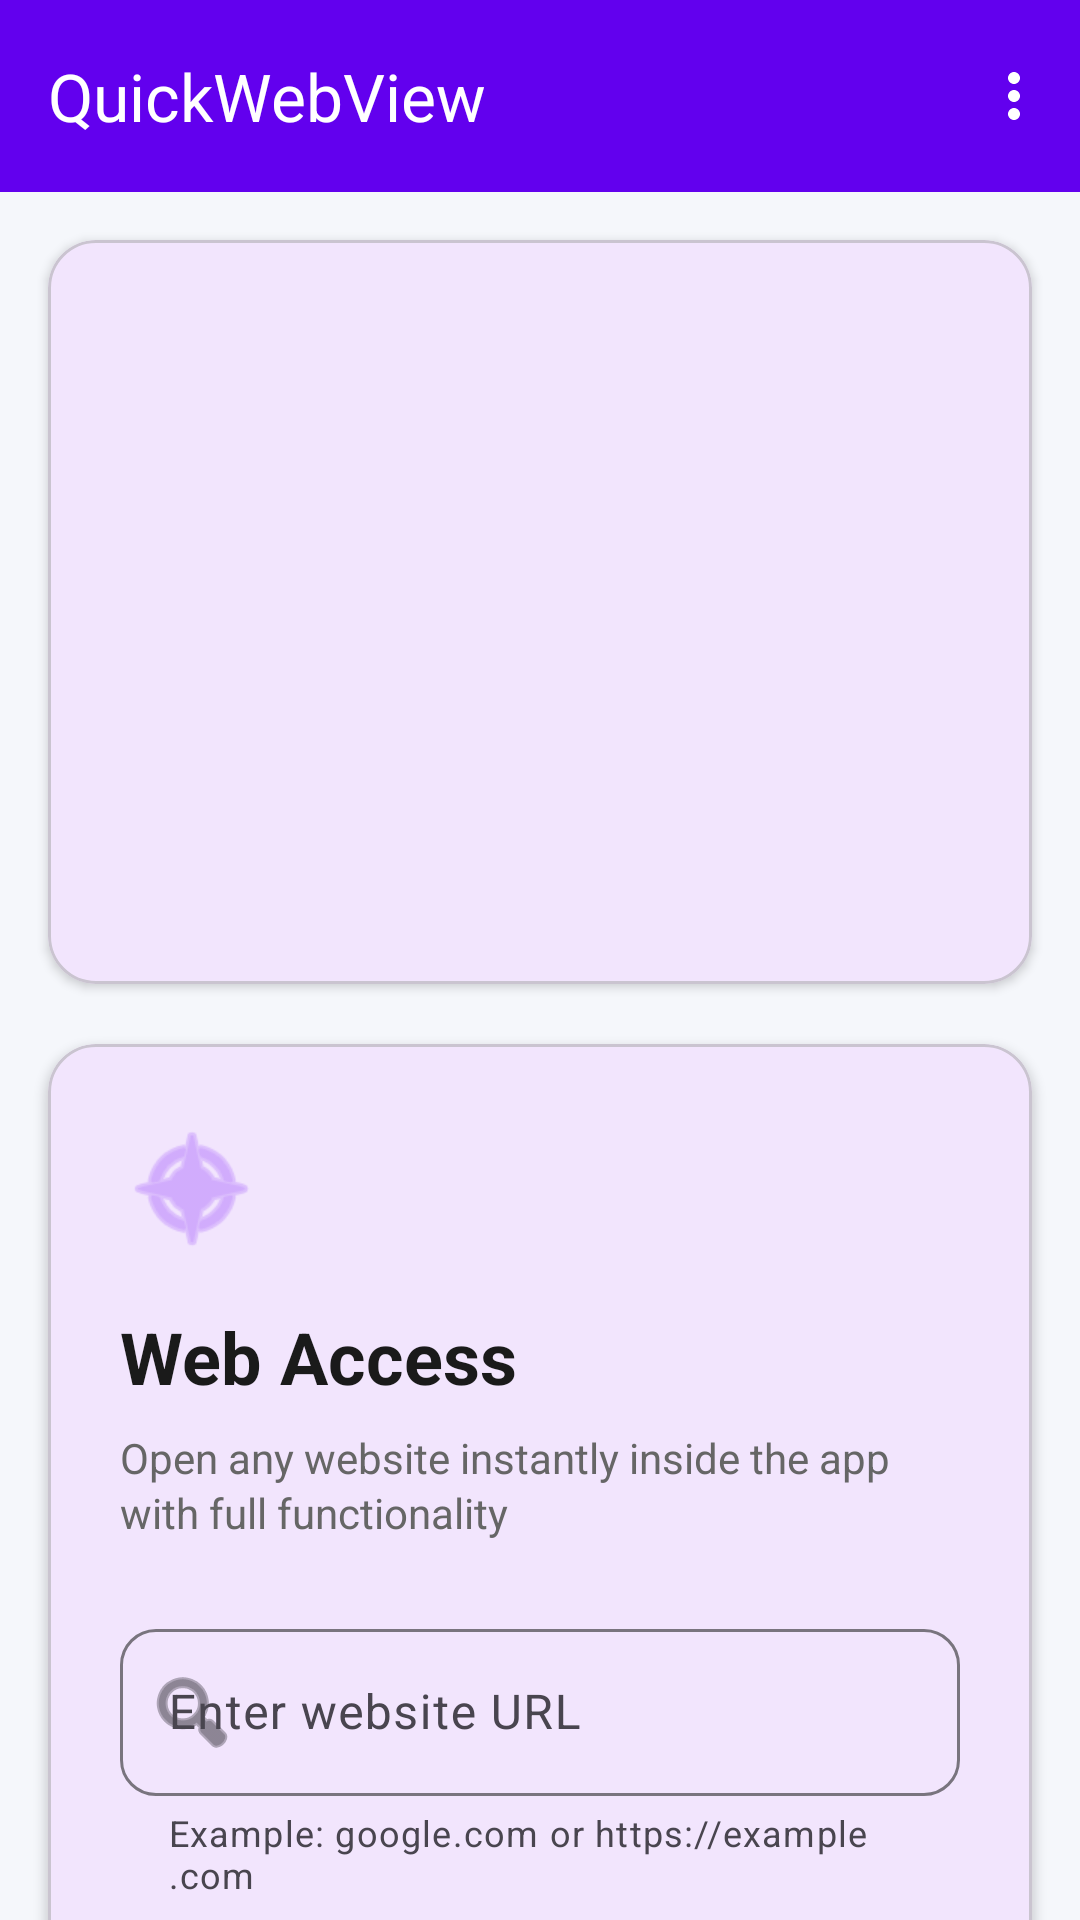

Icon bounding boxes for this 1080w x 1920h phone screenshot, format (x1, y1, x2, y2):
compass: (135, 1133, 247, 1245)
